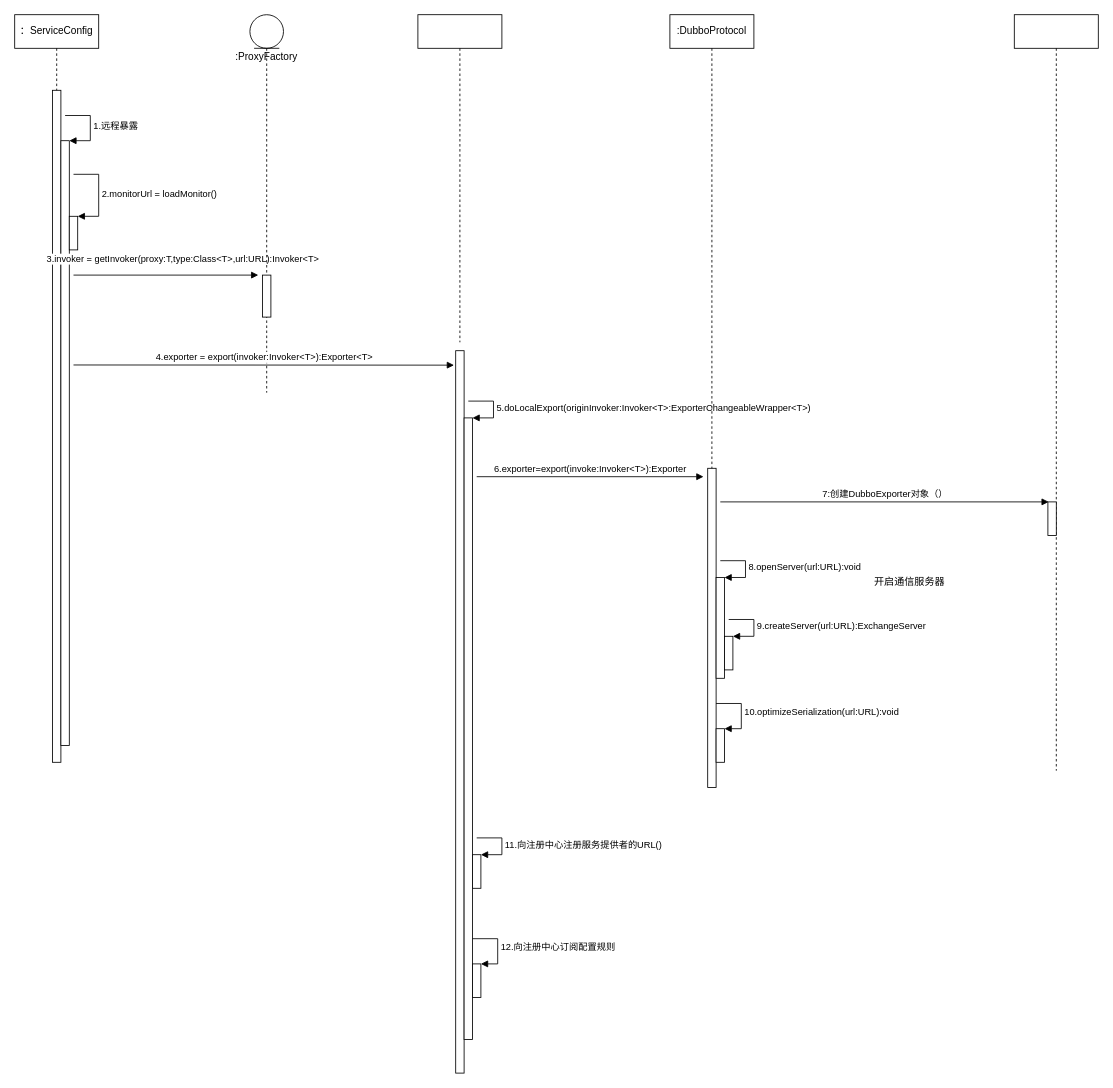
Image size: 1113x1088. Some labels were removed from this diagram. Here are the shapes that lost their labels. From the top down, the box of each, then its label:
(417, 14, 502, 342): :RegistryProtocol
(1013, 14, 1098, 771): :DubboExporter
